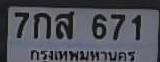1: (131, 14, 140, 40)
6: (91, 13, 105, 38)
7: (14, 11, 28, 37), (110, 13, 124, 39)
A01: (33, 12, 50, 38)
A40: (54, 10, 72, 38)
BKK: (26, 47, 136, 62)
